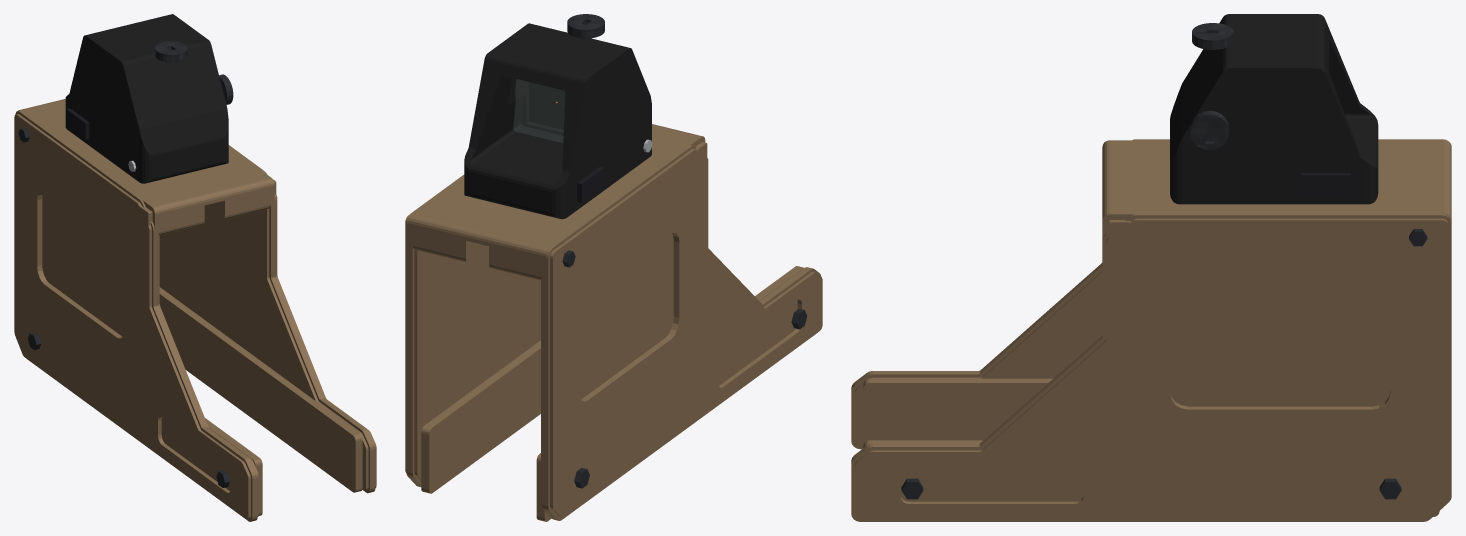
Rendered from ponte_mira_pistola_tan.glb.
The picture shows the model from 3 angles, left to right: view 1: azimuth 30°, elevation 25°; view 2: azimuth 150°, elevation 25°; view 3: azimuth 270°, elevation 25°; orthographic projection. The views are drawn at different scales.
Parts seen in each view (by area): view 1: ponte_mira_pistola_tan_cerakote_areia, ponte_mira_pistola_tan_aluminio_preto, ponte_mira_pistola_tan_recartilhado, ponte_mira_pistola_tan_aco_oxidado, ponte_mira_pistola_tan_borracha; view 2: ponte_mira_pistola_tan_cerakote_areia, ponte_mira_pistola_tan_aluminio_preto, ponte_mira_pistola_tan_lente, ponte_mira_pistola_tan_recartilhado, ponte_mira_pistola_tan_aco_oxidado, ponte_mira_pistola_tan_borracha; view 3: ponte_mira_pistola_tan_cerakote_areia, ponte_mira_pistola_tan_aluminio_preto, ponte_mira_pistola_tan_recartilhado, ponte_mira_pistola_tan_borracha, ponte_mira_pistola_tan_aco_oxidado.
Part boxes in pixels (x1,y1,x2,y2): ponte_mira_pistola_tan_cerakote_areia: [14, 99, 376, 521]; ponte_mira_pistola_tan_aluminio_preto: [65, 14, 228, 183]; ponte_mira_pistola_tan_recartilhado: [155, 41, 233, 104]; ponte_mira_pistola_tan_aco_oxidado: [18, 127, 229, 487]; ponte_mira_pistola_tan_borracha: [66, 108, 89, 139]; ponte_mira_pistola_tan_cerakote_areia: [405, 124, 822, 521]; ponte_mira_pistola_tan_aluminio_preto: [464, 23, 651, 219]; ponte_mira_pistola_tan_lente: [513, 79, 564, 142]; ponte_mira_pistola_tan_recartilhado: [567, 14, 604, 38]; ponte_mira_pistola_tan_aco_oxidado: [562, 250, 807, 488]; ponte_mira_pistola_tan_borracha: [465, 156, 603, 203]; ponte_mira_pistola_tan_cerakote_areia: [851, 139, 1451, 521]; ponte_mira_pistola_tan_aluminio_preto: [1170, 14, 1378, 204]; ponte_mira_pistola_tan_recartilhado: [1190, 23, 1233, 149]; ponte_mira_pistola_tan_borracha: [1301, 173, 1350, 196]; ponte_mira_pistola_tan_aco_oxidado: [901, 229, 1427, 499].
Bounding box in the file's own units: 0.033 × 0.0814 × 0.098.
8 materials, 1 textured.
